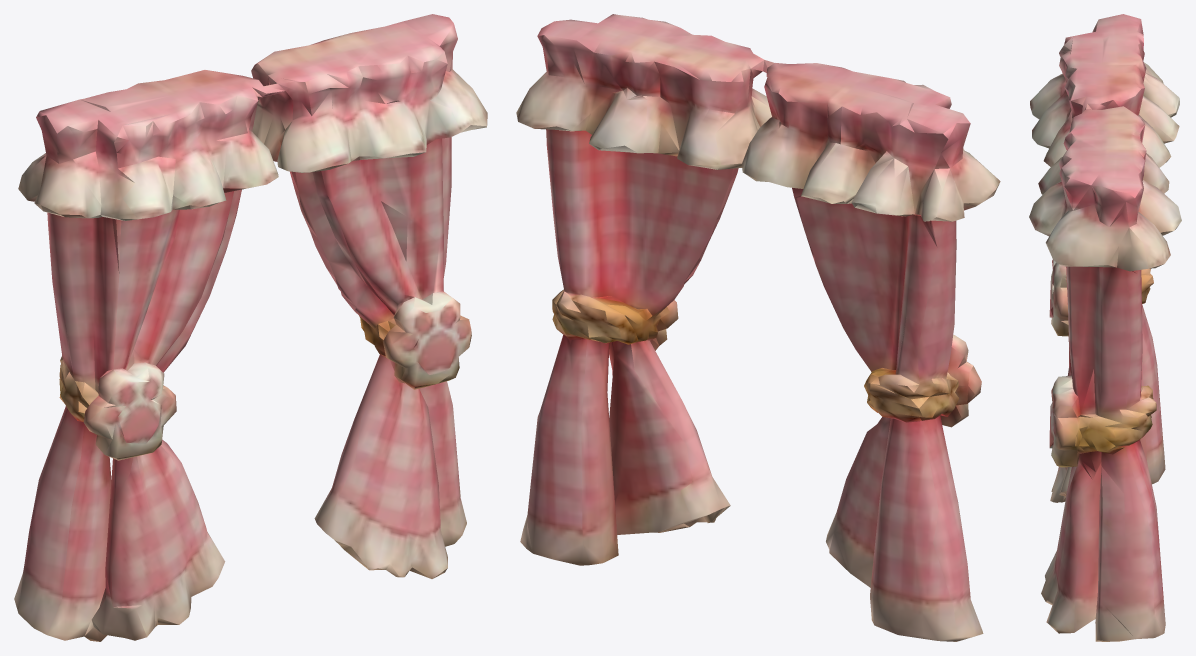
File: curtain13.glb
The picture shows the model from 3 angles, left to right: view 1: azimuth 30°, elevation 25°; view 2: azimuth 150°, elevation 25°; view 3: azimuth 270°, elevation 25°; orthographic projection. The views are drawn at different scales.
Size of the model in its own units: 0.2395 by 0.2722 by 0.0804.
1 material, 1 textured.
